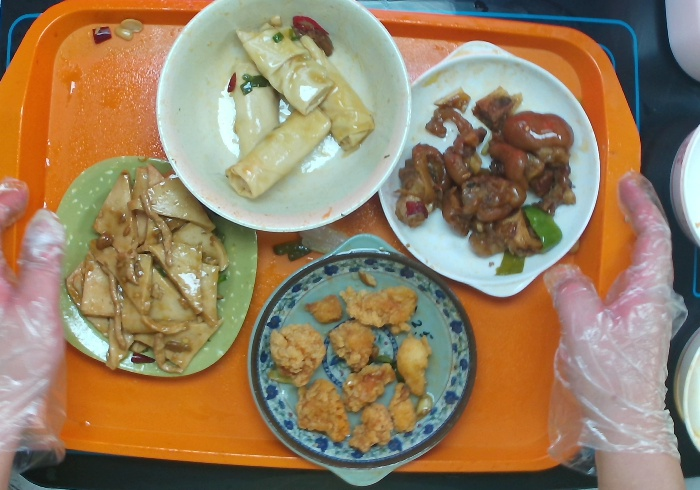NLDX-Bai_Se_Shuang_Er_Die: (377, 38, 602, 298)
NLDX-Bai_Se_Yuan_Wan: (152, 1, 414, 235)
NLDX-Lv_Hua_Fang_Die: (53, 153, 261, 380)
NLDX-Qing_Hua_Shuang_Er_Die: (245, 232, 480, 489)
